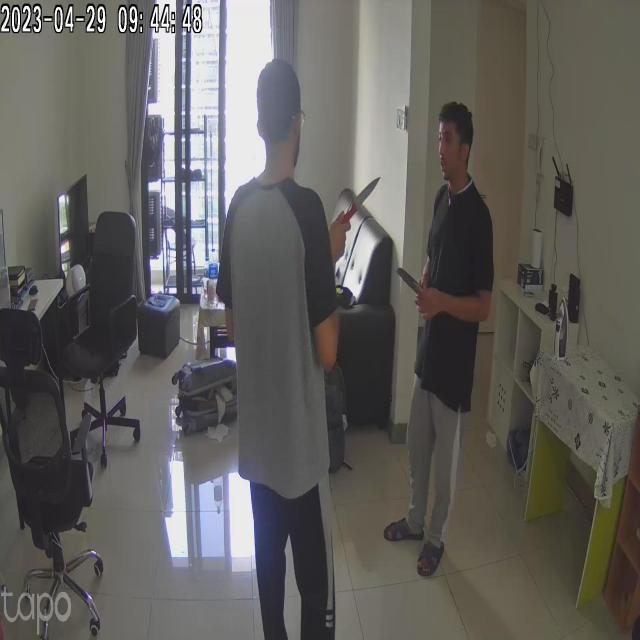Knife: (332, 170, 382, 229), (387, 258, 446, 308)
